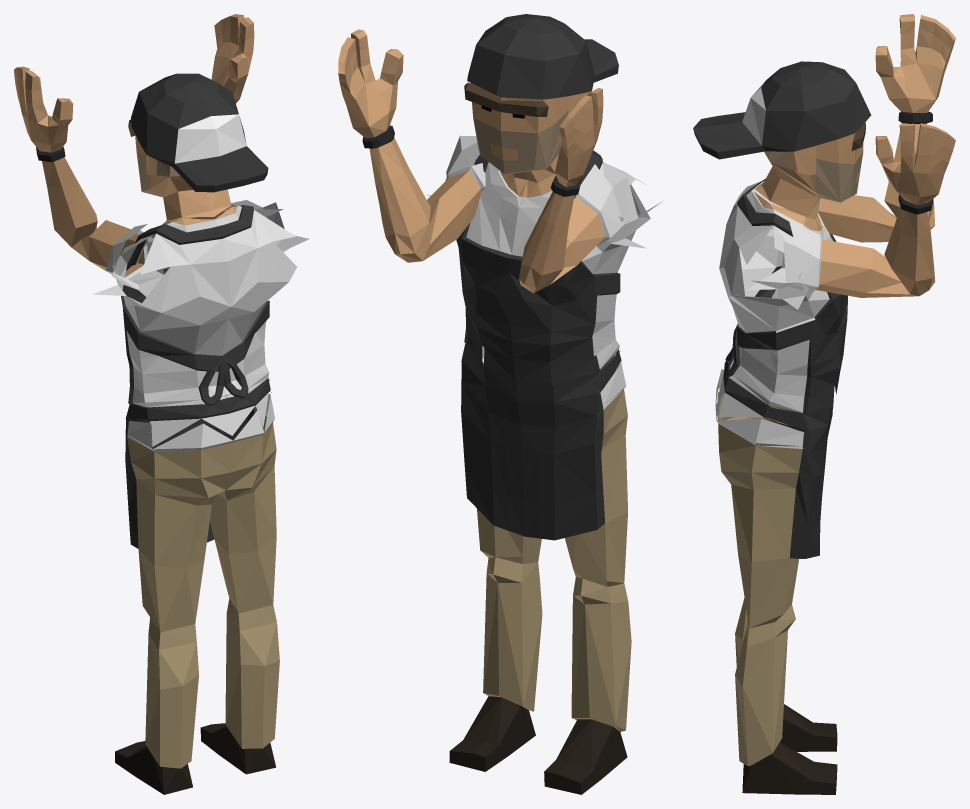
File: Cop_running.obj
The picture shows the model from 3 angles, left to right: view 1: azimuth 30°, elevation 25°; view 2: azimuth 150°, elevation 25°; view 3: azimuth 270°, elevation 25°; orthographic projection. The views are drawn at different scales.
Visible parts, largest first — view 1: Cop_running; view 2: Cop_running; view 3: Cop_running.
Boxes of the visible parts, x1,y1,x2,y2 form: Cop_running: (14, 14, 309, 794); Cop_running: (338, 14, 662, 794); Cop_running: (693, 14, 955, 794).
Bounding box in the file's own units: 0.6295 × 1.82 × 0.6211.
1 material, 1 textured.
